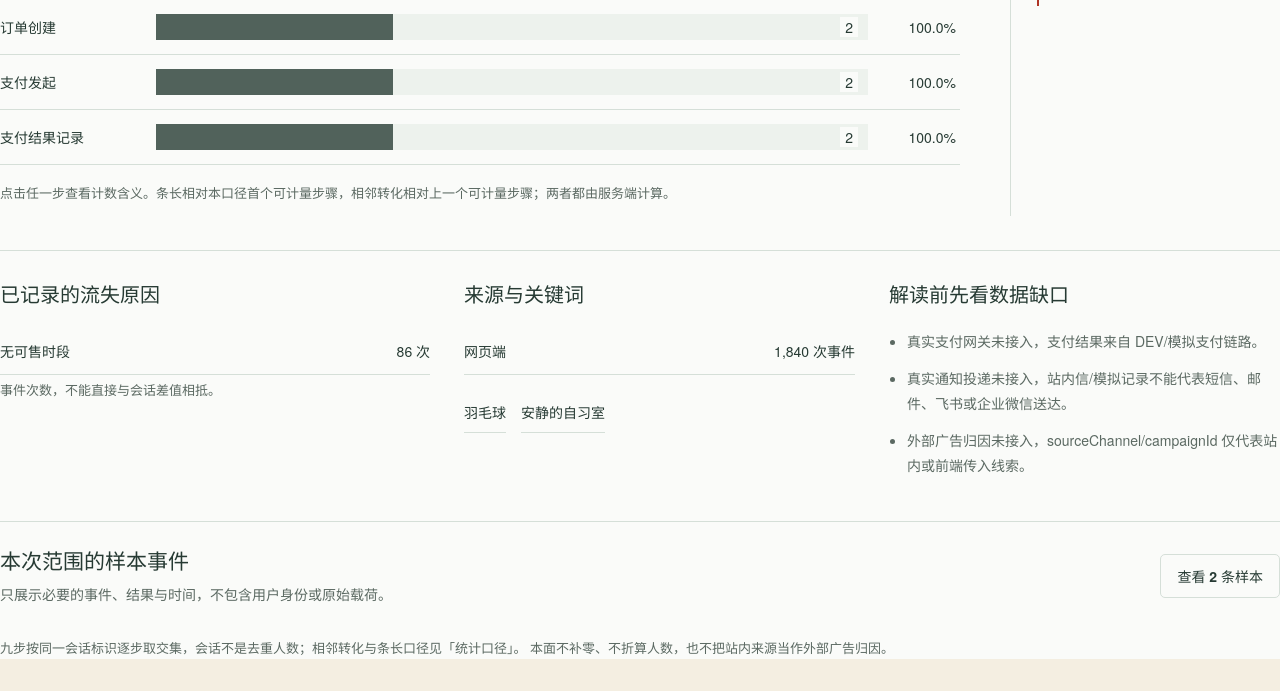
Test: 拾光场馆漏斗面 › loads the sample dialog from the dedicated endpoint so it stops being caller-less (B4-F7)
This screenshot has width=1280, height=691.
(page scrolled)
Click the button with test id "funnel-samples": x=1220, y=576 [1160,554,1279,598]
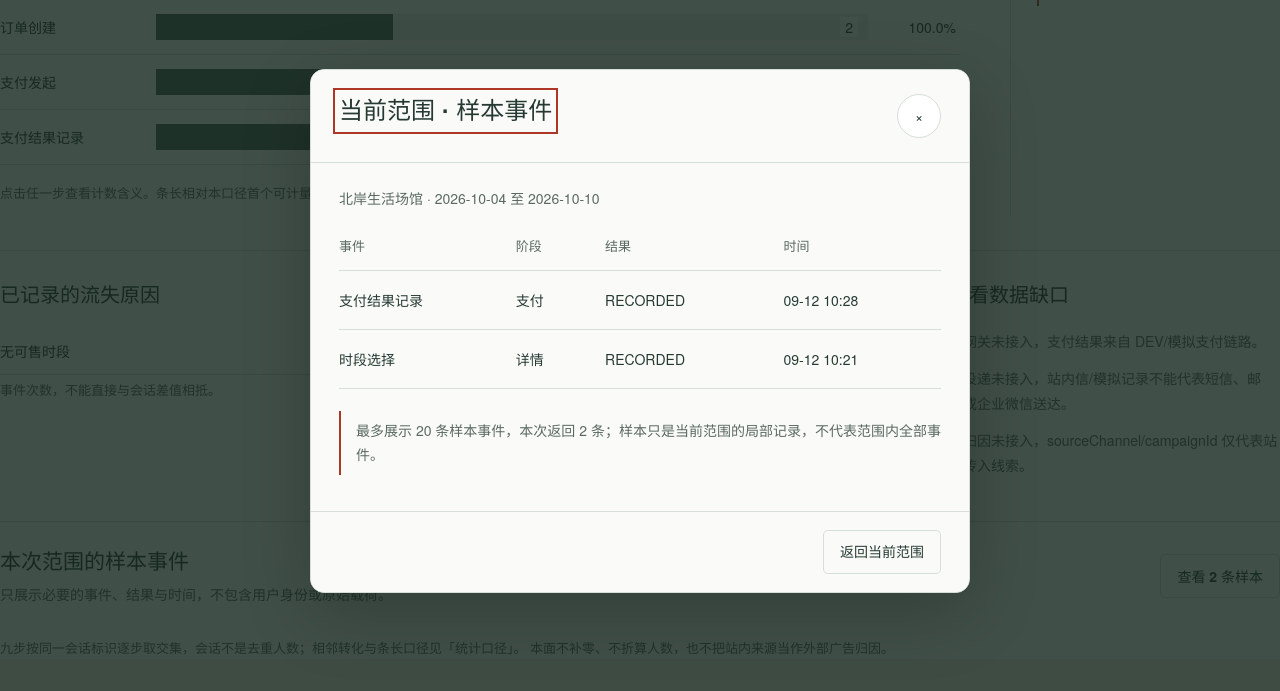
Check: the table with test id "funnel-sample-table" shows "支付结果记录", box [339,290,423,310]
Check: the table with test id "funnel-sample-table" shows "支付", box [516,290,544,310]
Check: the table with test id "funnel-sample-table" shows "详情", box [516,349,544,369]
